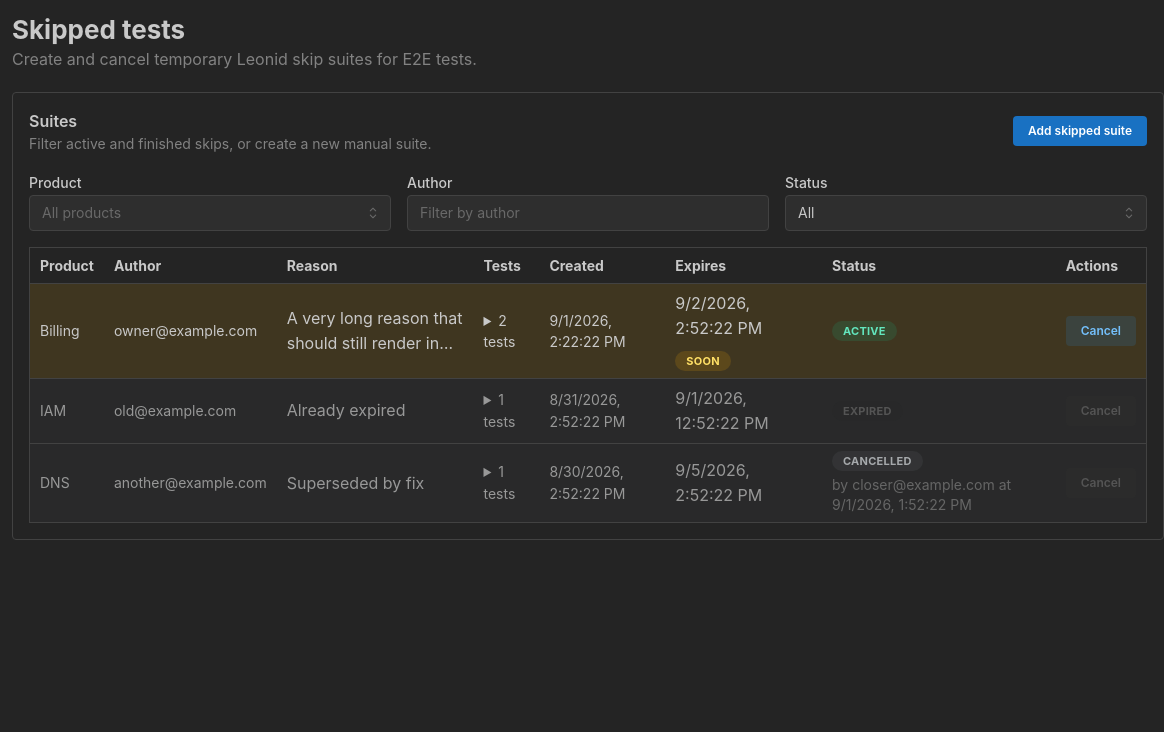
it: SkippedTestsPanel › filters suites by product
The width and height of the screenshot is (1164, 732).
Expected: the text "owner@example.com" is shown, [104,284,277,379]
Click the field labelled "Product". click: click(210, 213)
box: [29,195,391,231]
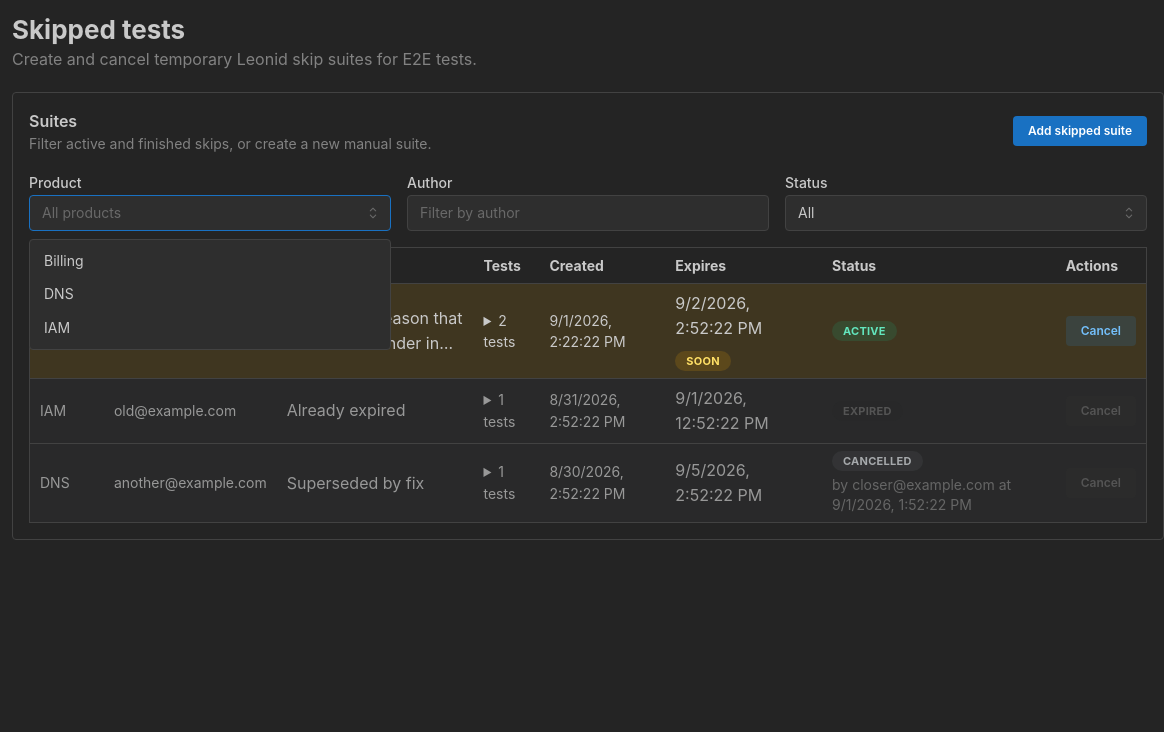
Click the option "IAM". click: click(57, 328)
box: [44,319,70,336]
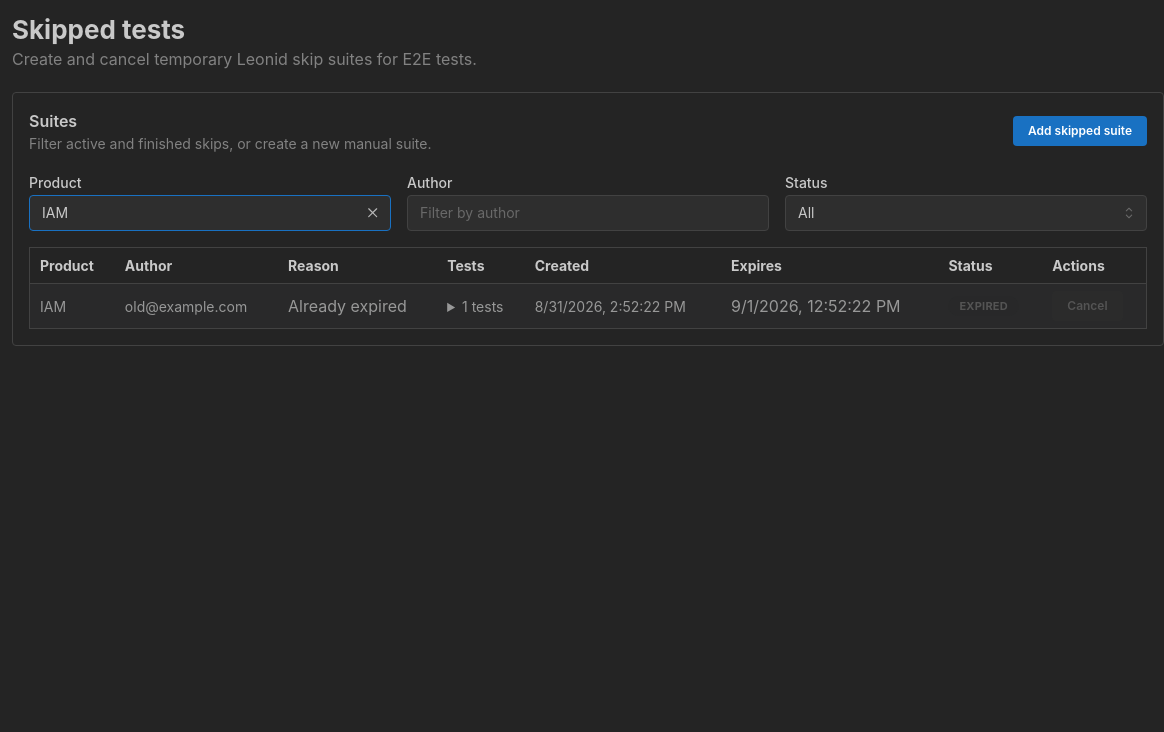
Expected: the text "old@example.com" is shown, [115,284,278,329]
Now the text "owner@example.com" is gone
